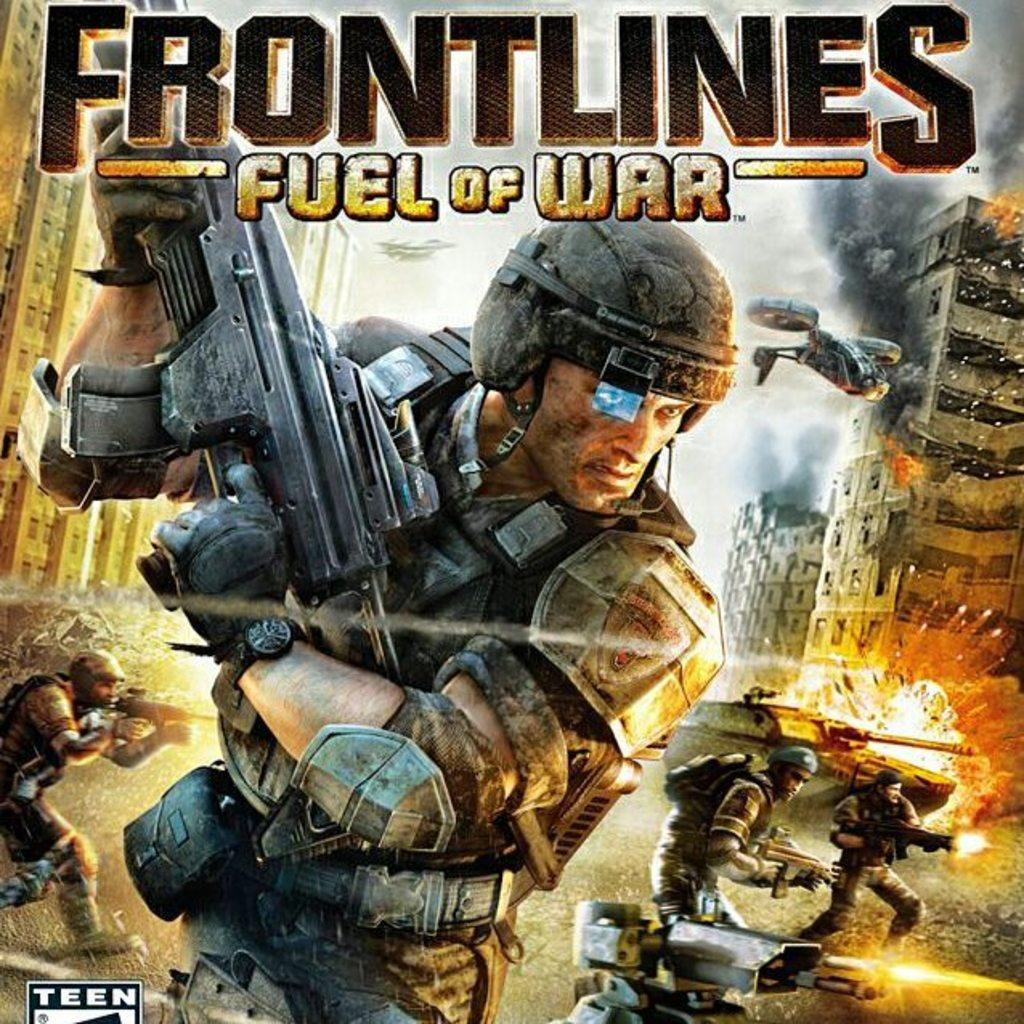Rifle: (59, 0, 437, 854)
